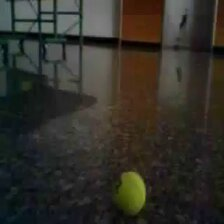tennis: (113, 171, 147, 215)
